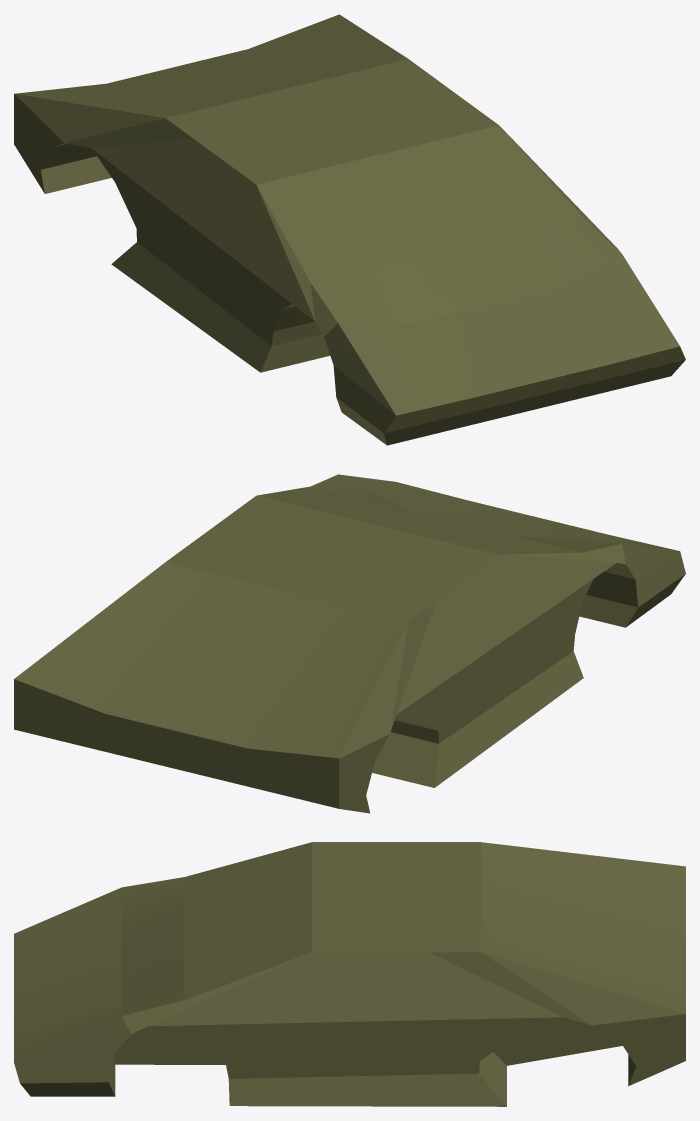
The model's file is countach_body.fbx.
The picture shows the model from 3 angles, top to bottom: view 1: azimuth 30°, elevation 25°; view 2: azimuth 150°, elevation 25°; view 3: azimuth 270°, elevation 25°; orthographic projection. The views are drawn at different scales.
Parts seen in each view (by area): view 1: body; view 2: body; view 3: body.
Part boxes in pixels (x1,y1,x2,y2): body: (14, 14, 685, 445); body: (14, 474, 685, 813); body: (14, 842, 685, 1106).
Bounding box in the file's own units: 235 × 101 × 451.
